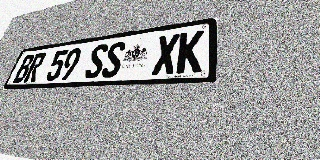5: (44, 49, 69, 81)
9: (58, 47, 83, 80)
B: (12, 54, 36, 83)
K: (176, 30, 204, 74)
R: (23, 52, 47, 82)
S: (100, 41, 127, 78), (83, 43, 109, 79)
X: (151, 33, 180, 75)
